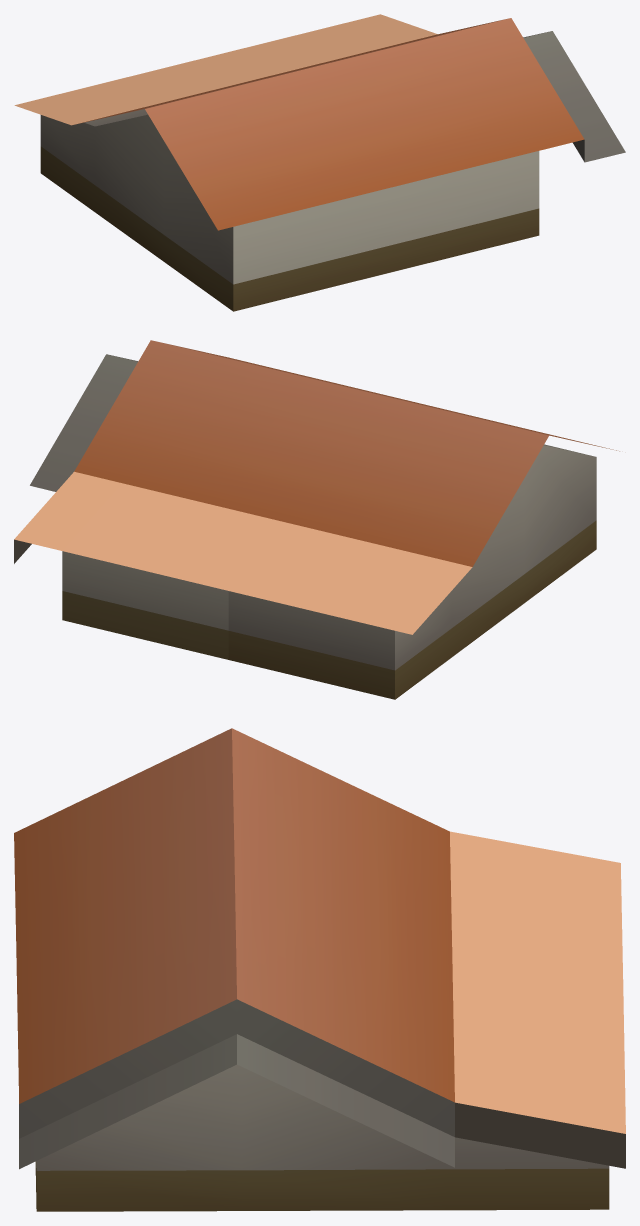
The model's file is SM_Pig_Farm_Small.fbx.
The picture shows the model from 3 angles, top to bottom: view 1: azimuth 30°, elevation 25°; view 2: azimuth 150°, elevation 25°; view 3: azimuth 270°, elevation 25°; orthographic projection. The views are drawn at different scales.
Parts seen in each view (by area): view 1: Cube.014; view 2: Cube.014; view 3: Cube.014.
Part boxes in pixels (bbox=[...]): Cube.014: bbox=[14, 14, 625, 311]; Cube.014: bbox=[14, 340, 619, 699]; Cube.014: bbox=[14, 728, 625, 1211].
Size of the model in its own units: 75.47 by 27.9 by 64.27.
